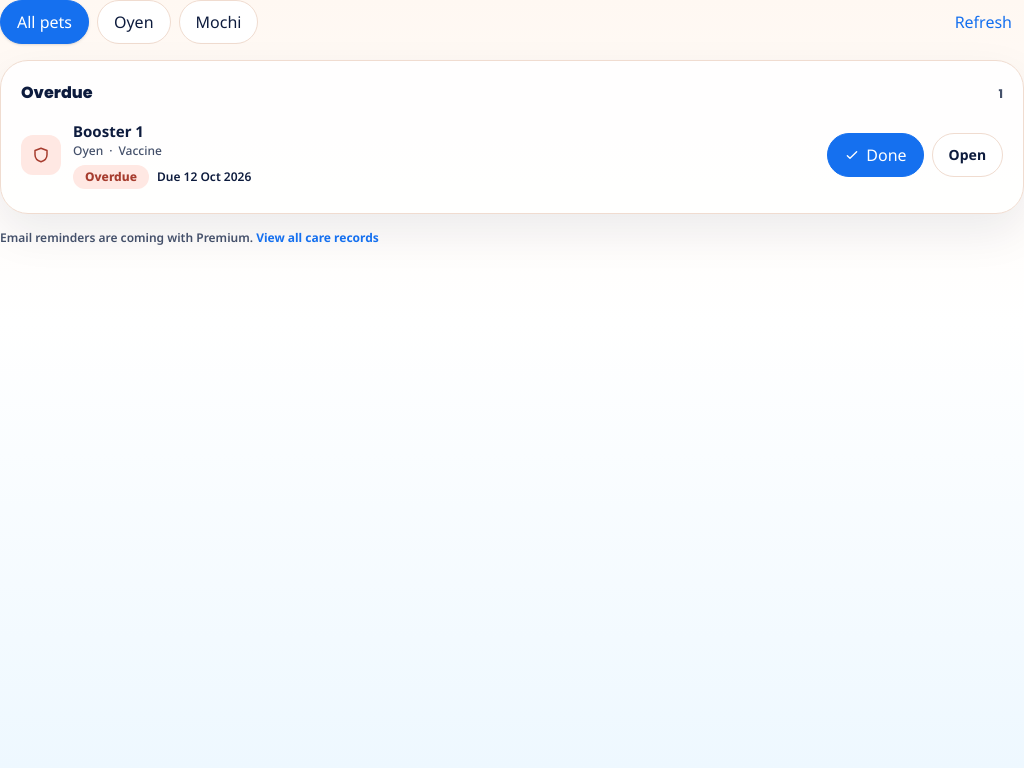
Test case: Mark as done from the planner › explains a care_item_completed refusal and offers no second save
What coordinates should you click on to do the following:
click the button with aria-label "Mark Booster 1 for Oyen as done"
I would click on:
 (875, 155)
Its box is top-left (827, 133), bottom-right (924, 177).
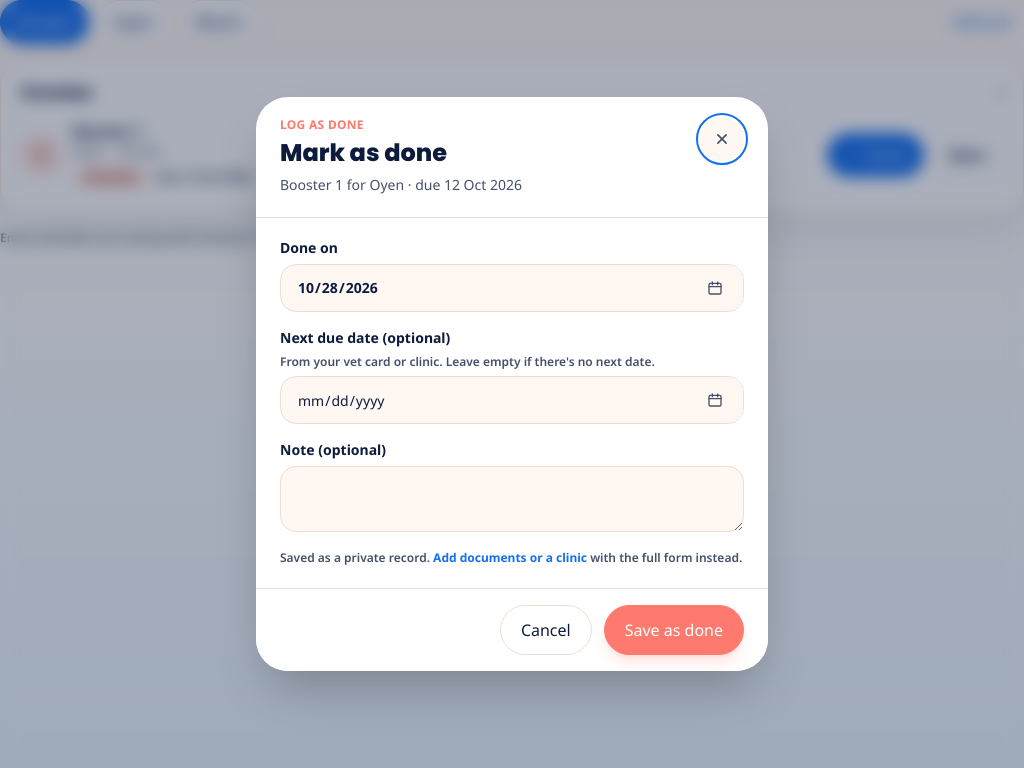
Result: the dialog "Mark as done" is shown
What coordinates should you click on to do the following:
click the button "Save as done"
I would click on:
 (674, 630)
Its box is top-left (604, 605), bottom-right (744, 655).
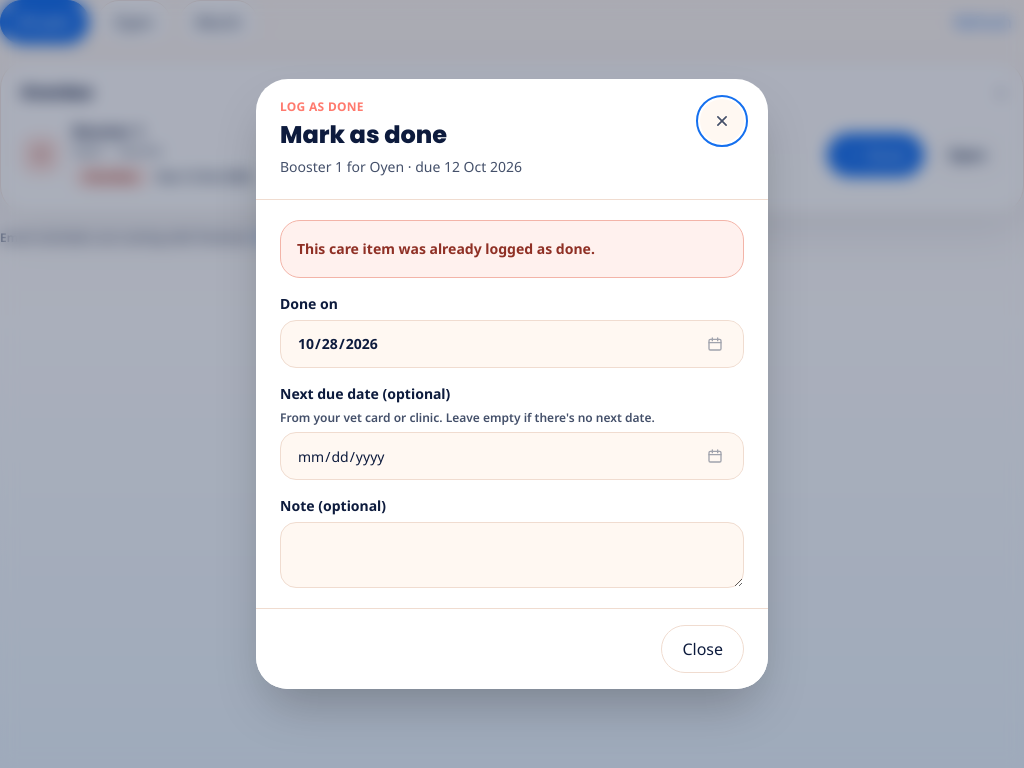
Result: the text "This care item was already logged as done." is shown at top-left (280, 220), bottom-right (744, 278)
Result: the button "Save as done" is gone
Result: the button "Close" is shown at top-left (661, 625), bottom-right (744, 673)
